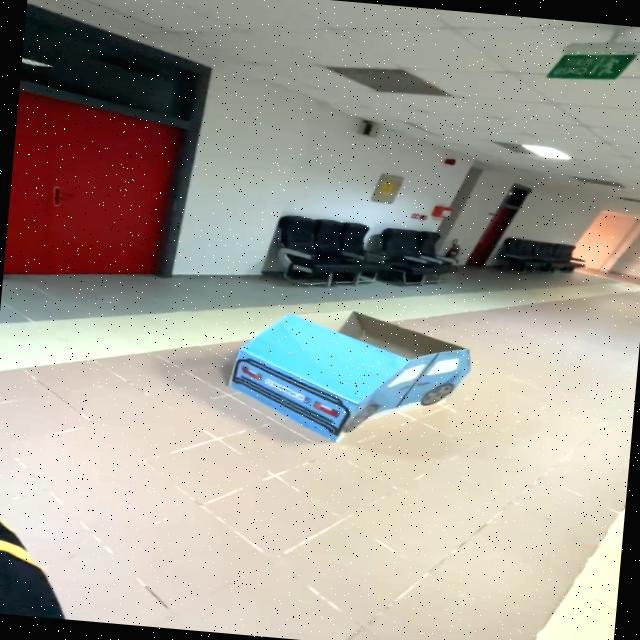blue_car: (189, 294, 497, 461)
